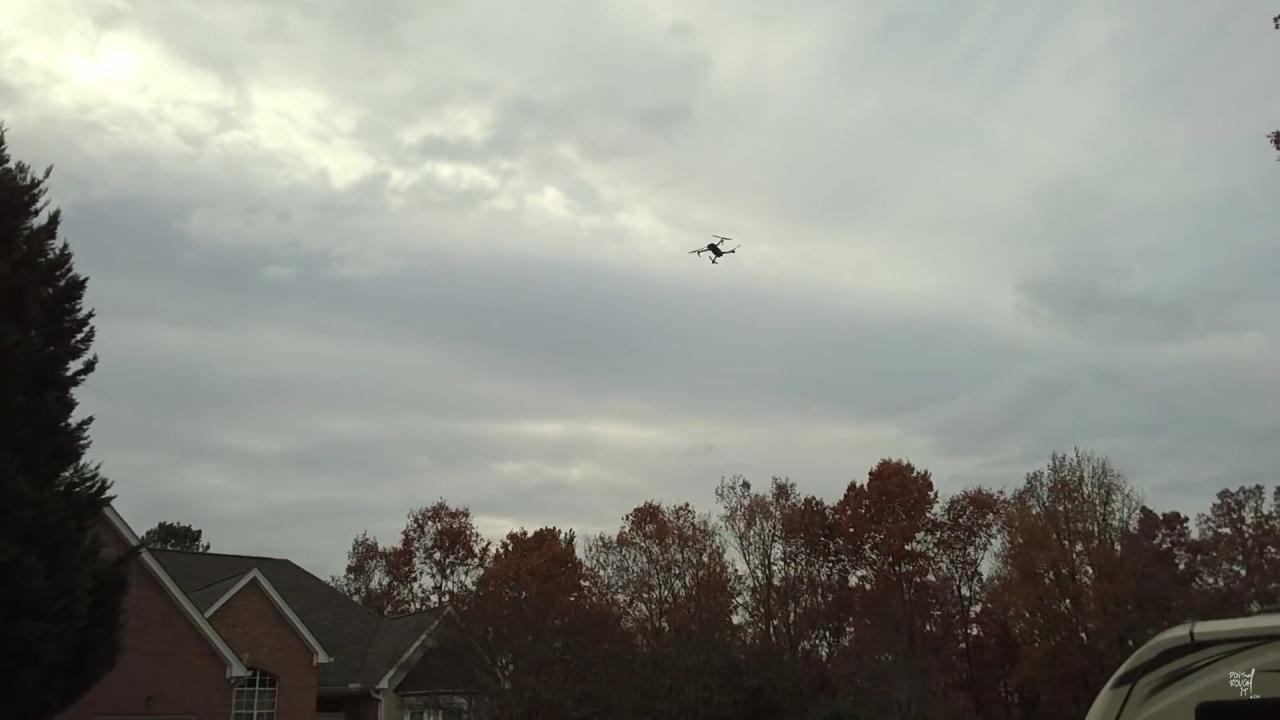Drone: (678, 218, 752, 280)
